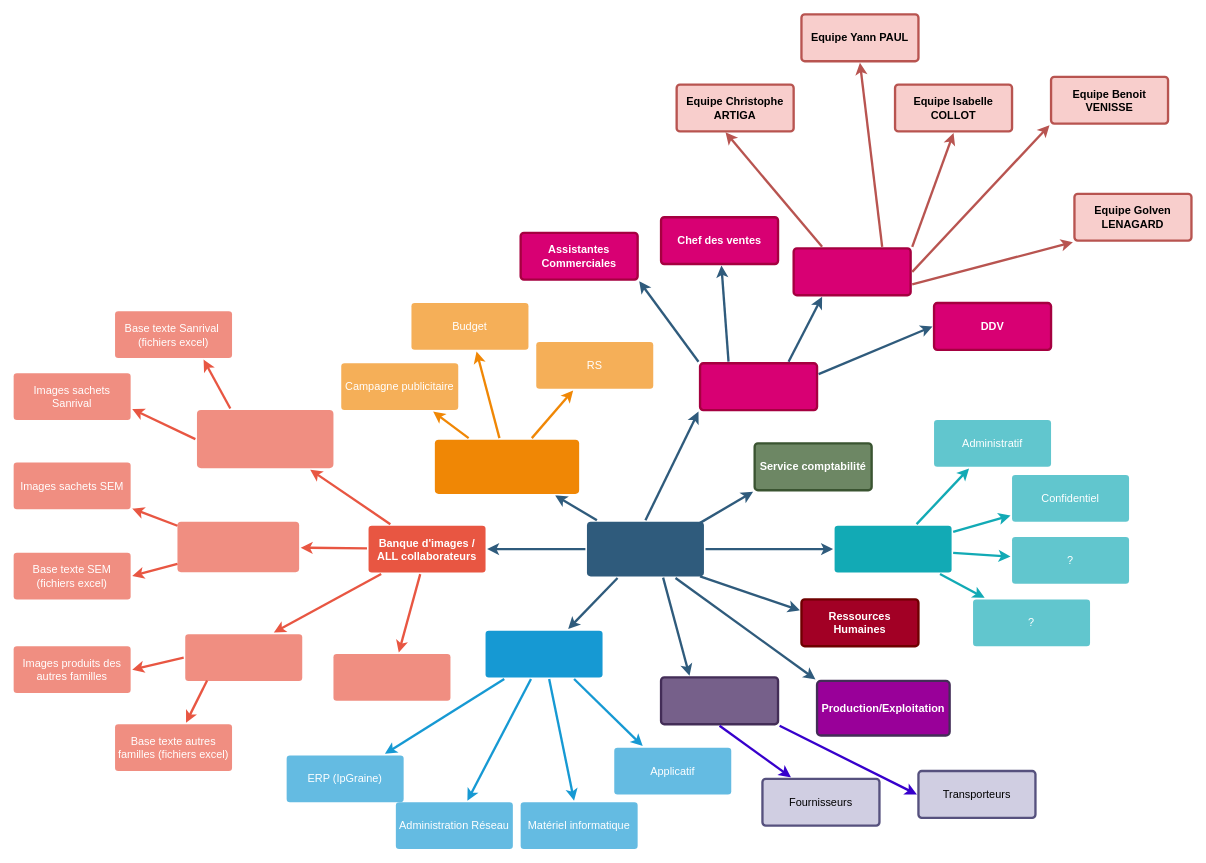
This 1206x863 diagram has some shape labels left out. Here are the shapes that lost their labels. From the top down, the centre of each, then its label:
point (851, 271): RR
point (758, 386): Commercial
point (265, 439): Sanrival
point (506, 466): Marketing/e-commerce/Communication
point (238, 546): SEM
point (645, 548): Sanrival JARDIN / Intranet
point (892, 548): Direction
point (243, 657): Autres Gammes
point (543, 653): Système d'information
point (391, 677): Les Books
point (719, 700): Achats/Logistiques
